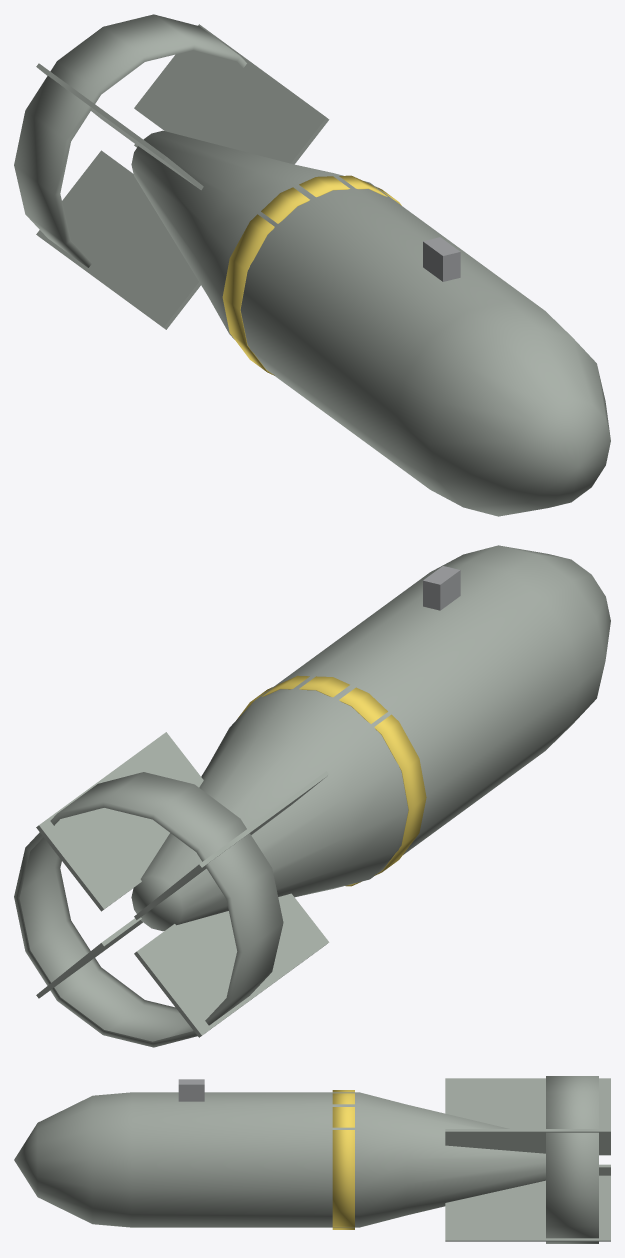
3 renders of one model, top to bottom at view 1: azimuth 30°, elevation 25°; view 2: azimuth 150°, elevation 25°; view 3: azimuth 270°, elevation 25°, orthographic. The views are drawn at different scales.
Parts seen in each view (by area): view 1: sc250_body; view 2: sc250_body; view 3: sc250_body.
Boxes of the visible parts, x1,y1,x2,y2 form: sc250_body: (14, 14, 610, 516); sc250_body: (14, 545, 610, 1047); sc250_body: (14, 1076, 610, 1243).
Size of the model in its own units: 0.4588 by 0.4536 by 1.6.
